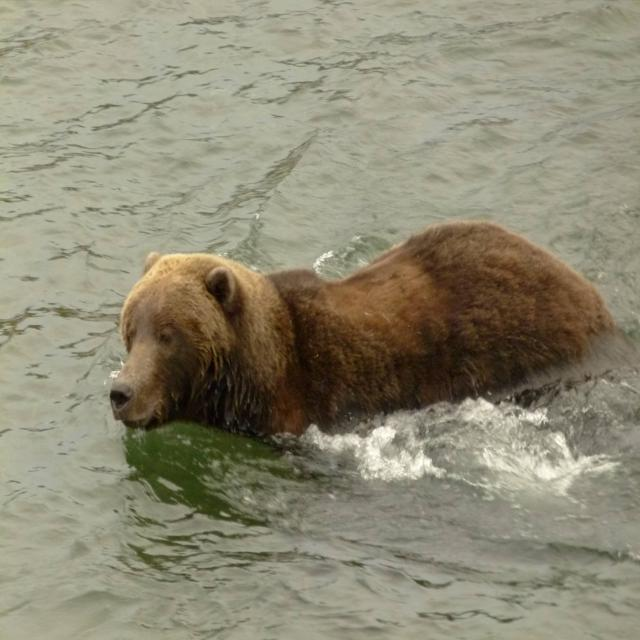bear face: (108, 223, 600, 429)
